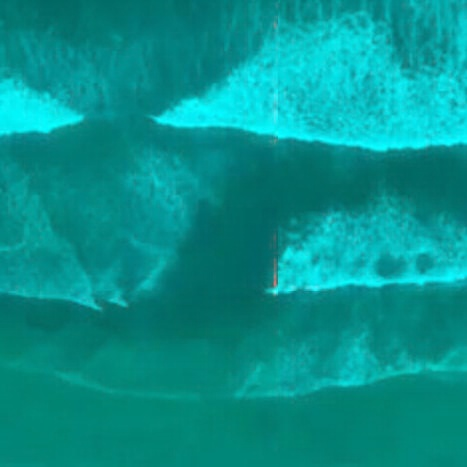rip_current: (143, 30, 333, 358)
